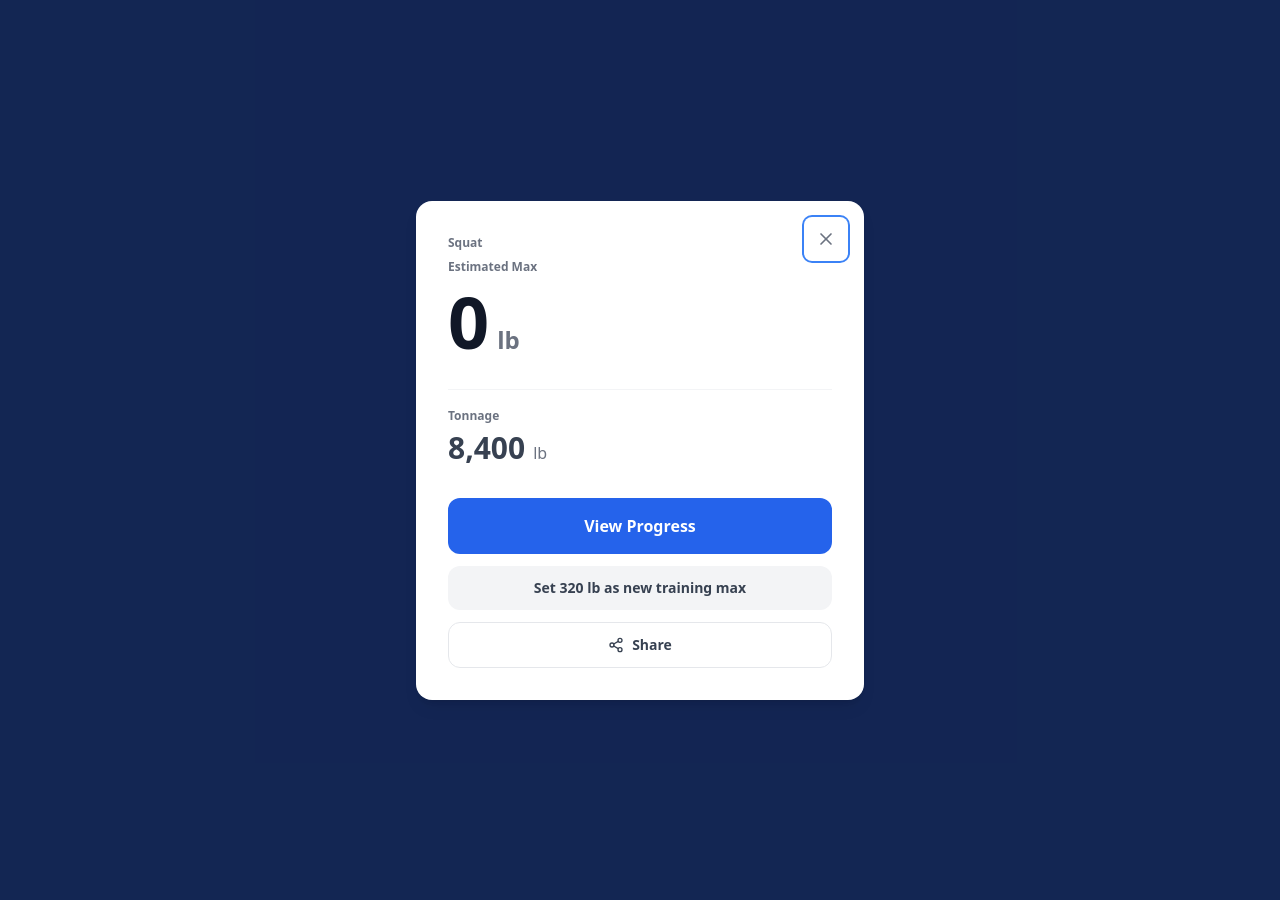
it: WorkoutSuccessModal › shows an error and re-enables the button when setting the training max fails
Step 1. Click the button "Set 320 lb as new training max" → x=640, y=588, box [448, 566, 832, 610]
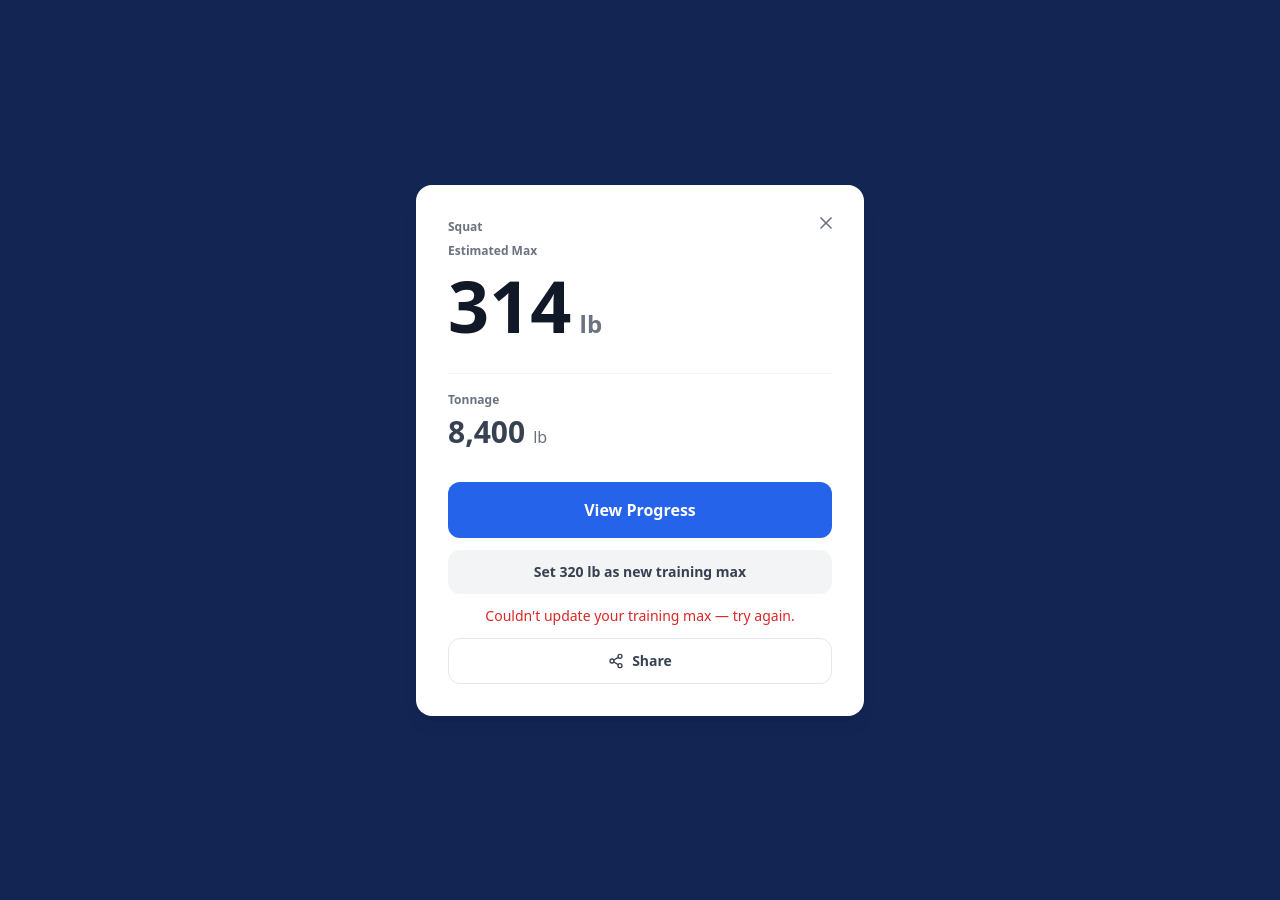
expect the button "Set 320 lb as new training max" is enabled: met, box [448, 550, 832, 594]
expect the text "Couldn't update your training max — try again." is shown: met, box [485, 606, 795, 624]
